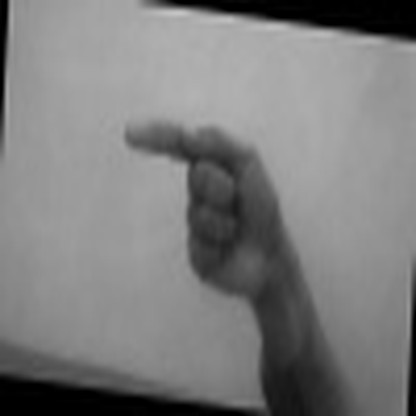g: (120, 112, 285, 298)
